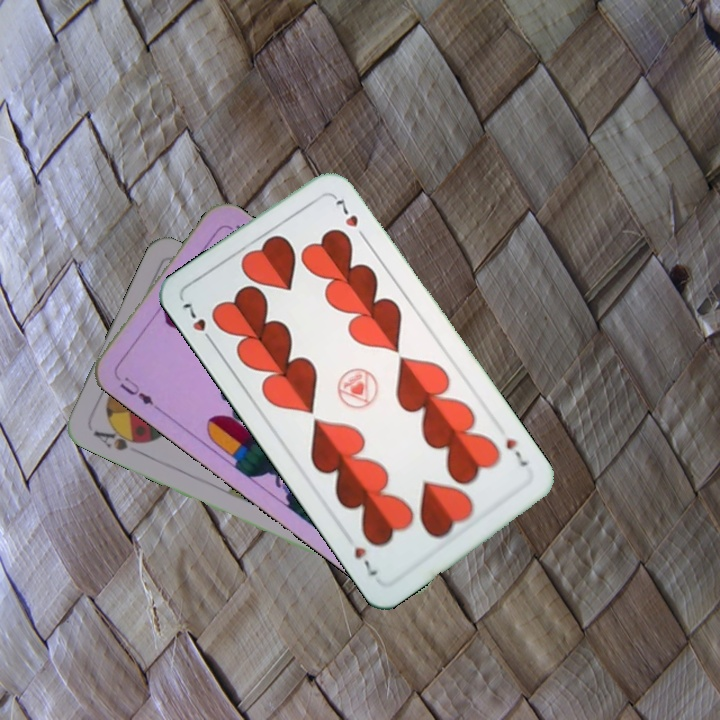EU: (116, 372, 162, 413)
H7: (177, 298, 218, 348), (501, 435, 531, 471)
SA: (89, 422, 148, 453)
